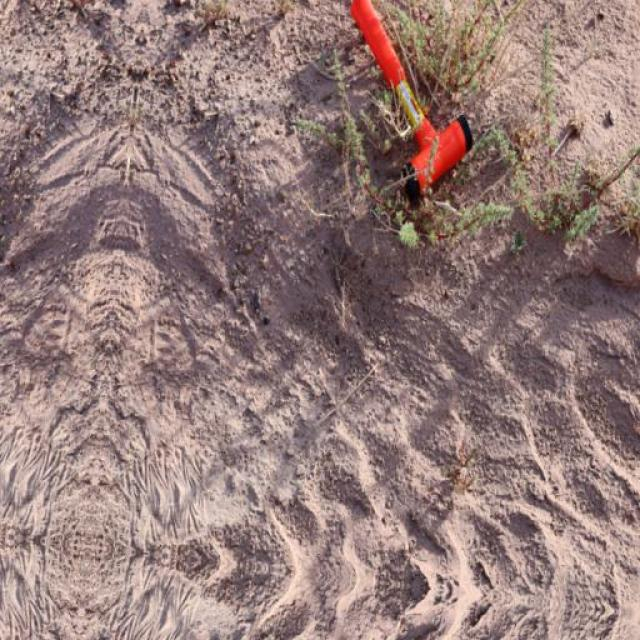mallet: (345, 0, 474, 199)
